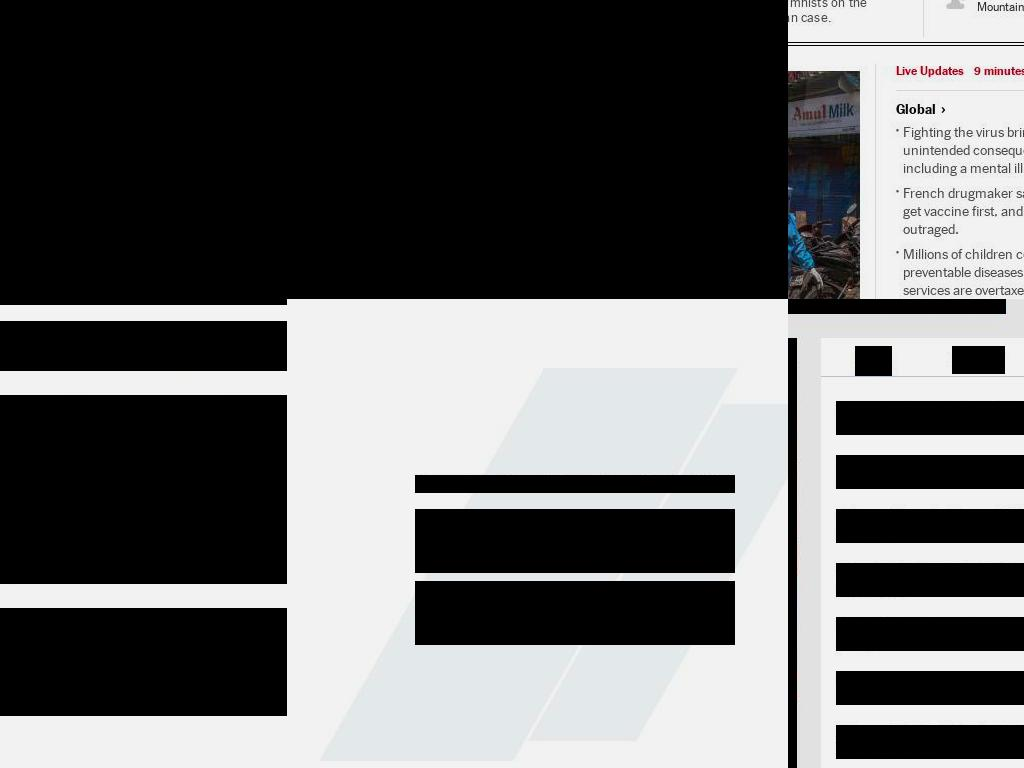button: (400, 59, 788, 299), (0, 59, 384, 299), (415, 509, 735, 573), (415, 581, 735, 645), (788, 71, 860, 299), (788, 0, 908, 26), (952, 346, 1005, 374), (855, 346, 892, 376), (895, 103, 946, 117)
heading: (0, 321, 287, 371), (902, 126, 1024, 176), (902, 187, 1024, 237), (902, 248, 1024, 298), (895, 64, 964, 80), (895, 103, 936, 117)
iframe: (147, 0, 637, 299), (28, 0, 756, 26)
image: (0, 0, 788, 299), (400, 59, 788, 299), (0, 59, 384, 299), (788, 71, 860, 299), (938, 0, 973, 11)
link: (836, 401, 1024, 435), (836, 455, 1024, 489), (836, 509, 1024, 543), (836, 563, 1024, 597), (836, 617, 1024, 651), (836, 671, 1024, 705), (836, 725, 1024, 759), (788, 0, 908, 26)
text: (0, 395, 287, 584), (0, 608, 287, 716), (415, 475, 735, 493), (0, 299, 287, 305), (973, 64, 1024, 80), (976, 0, 1024, 16)
